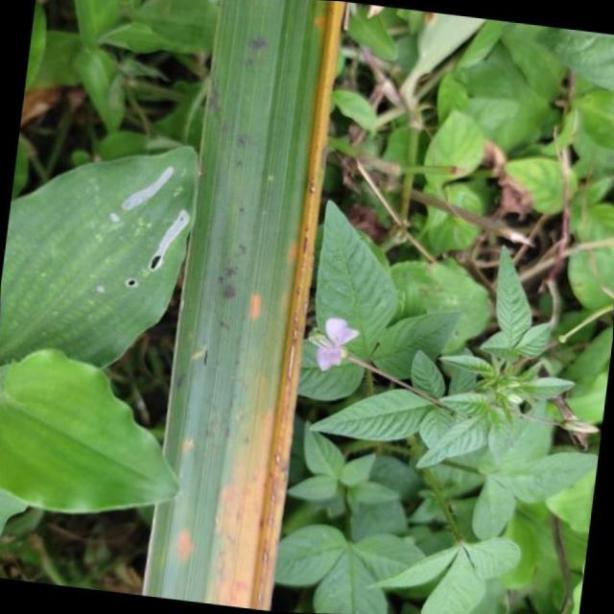Megnesium: (139, 0, 345, 614)
